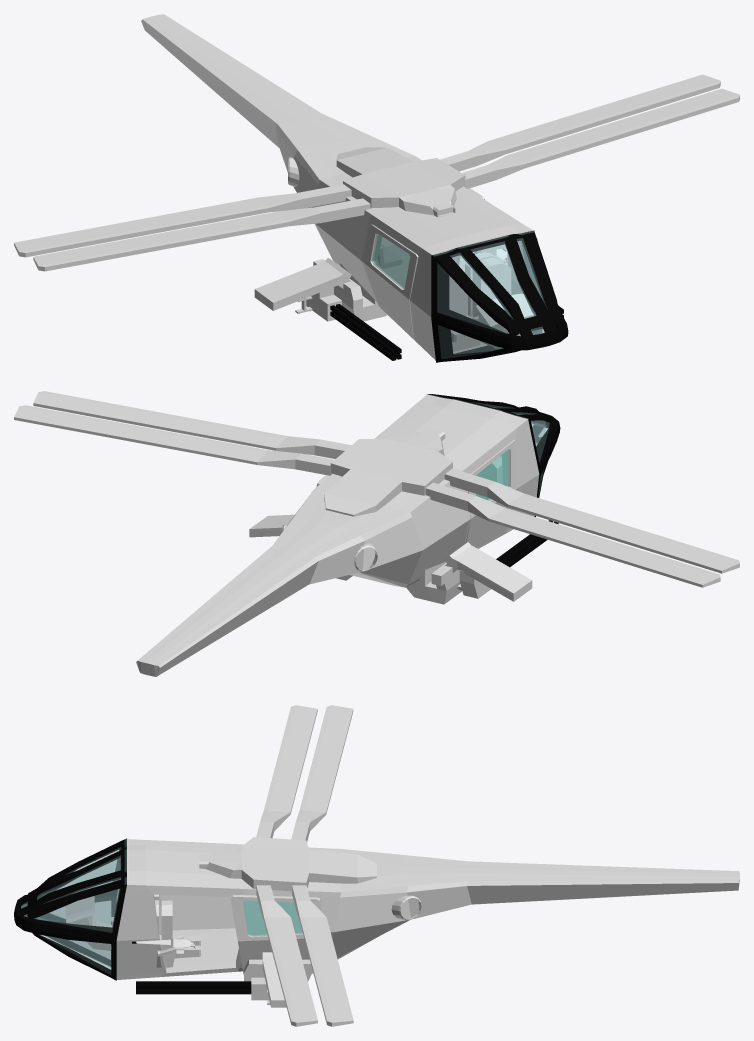
The model's file is dragonflymoderndoorgunnerseam.fbx.
3 renders of one model, top to bottom at view 1: azimuth 30°, elevation 25°; view 2: azimuth 150°, elevation 25°; view 3: azimuth 270°, elevation 25°, orthographic. The views are drawn at different scales.
Parts seen in each view (by area): view 1: Cube.041, cockpitframe, Cube.058, cockpit, backblade.001, forwardblade.001, forwardblade, backblade, Cube.016, door_right, barrel.001, Cube.060 (+4 smaller); view 2: Cube.041, Cube.058, backblade.001, forwardblade.001, backblade, forwardblade, Cube.016, cockpitframe, door_right, Cube.060, barrel.001, cockpit (+1 smaller); view 3: Cube.041, cockpitframe, Cube.058, cockpit, forwardblade, backblade, backblade.001, forwardblade.001, door_right, door_left, barrel, Cube.016 (+3 smaller).
Part boxes in pixels (x1,y1,x2,y2): Cube.041: (141, 14, 532, 359); cockpitframe: (431, 230, 568, 362); Cube.058: (336, 147, 465, 217); cockpit: (433, 231, 545, 358); backblade.001: (14, 184, 351, 257); forwardblade.001: (33, 198, 372, 271); forwardblade: (462, 88, 739, 188); backblade: (440, 74, 720, 171); Cube.016: (254, 237, 537, 321); door_right: (363, 224, 418, 335); barrel.001: (330, 304, 401, 360); Cube.060: (372, 234, 410, 289); Cube.041: (136, 394, 539, 676); Cube.058: (324, 428, 452, 516); backblade.001: (425, 482, 720, 587); forwardblade.001: (444, 468, 739, 573); backblade: (14, 405, 334, 475); forwardblade: (33, 391, 351, 458); Cube.016: (249, 514, 532, 604); cockpitframe: (427, 394, 560, 516); door_right: (466, 439, 517, 547); Cube.060: (476, 449, 509, 500); barrel.001: (496, 520, 558, 567); cockpit: (428, 394, 549, 497); Cube.041: (116, 839, 739, 979); cockpitframe: (14, 838, 126, 980); Cube.058: (199, 837, 376, 891); cockpit: (21, 839, 126, 979); forwardblade: (256, 885, 317, 1026); backblade: (292, 885, 353, 1026); backblade.001: (291, 705, 353, 841); forwardblade.001: (256, 705, 317, 838); door_right: (160, 894, 235, 930); door_left: (230, 894, 320, 974); barrel: (136, 981, 251, 994); Cube.016: (244, 952, 313, 1007).
Bounding box in the file's own units: 616 × 97.9 × 595.
